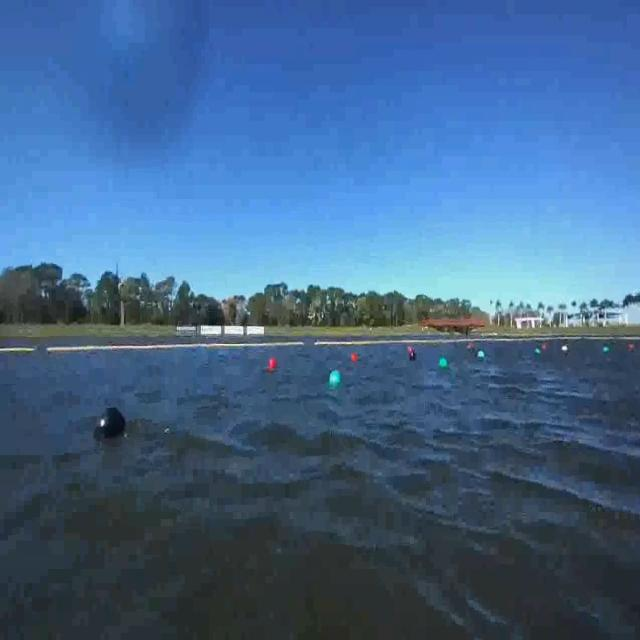black-buoy: (90, 383, 132, 469)
green-buoy: (328, 371, 342, 390), (441, 356, 449, 368), (479, 351, 486, 360)
red-buoy: (269, 357, 279, 371), (352, 353, 358, 362)
red-column-buoy: (409, 346, 415, 362)
